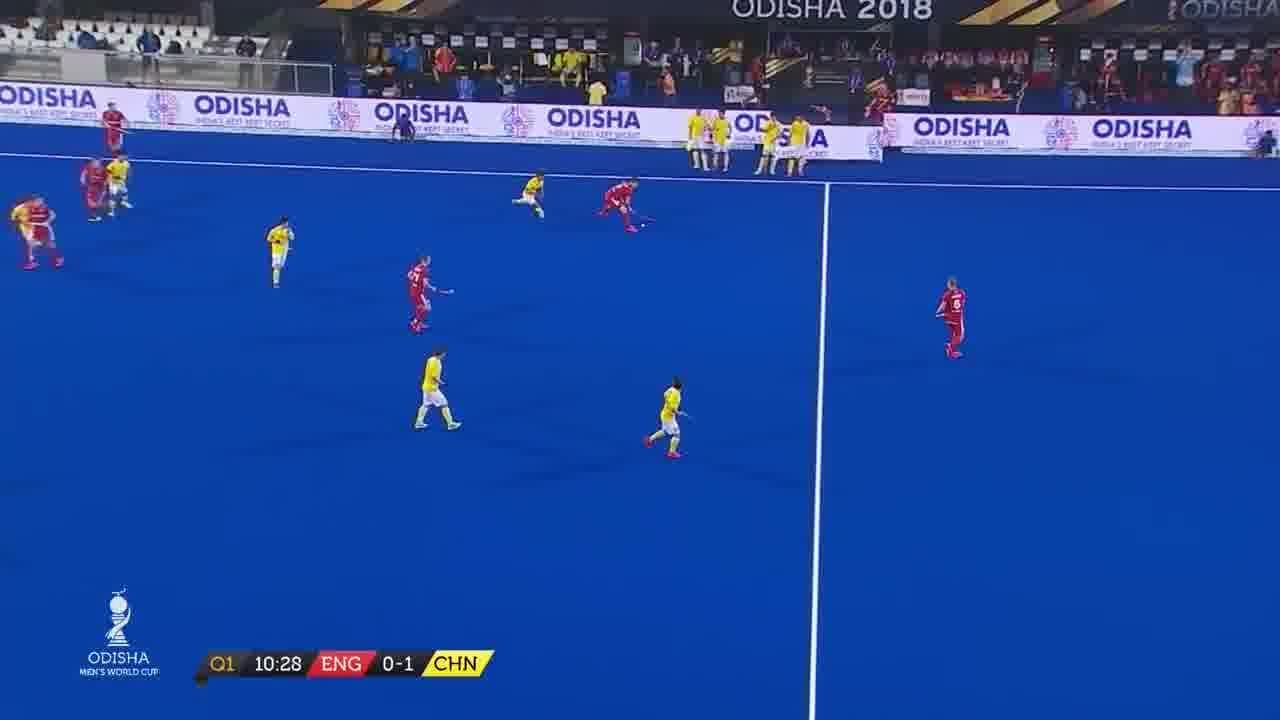ball: (636, 218, 652, 231)
